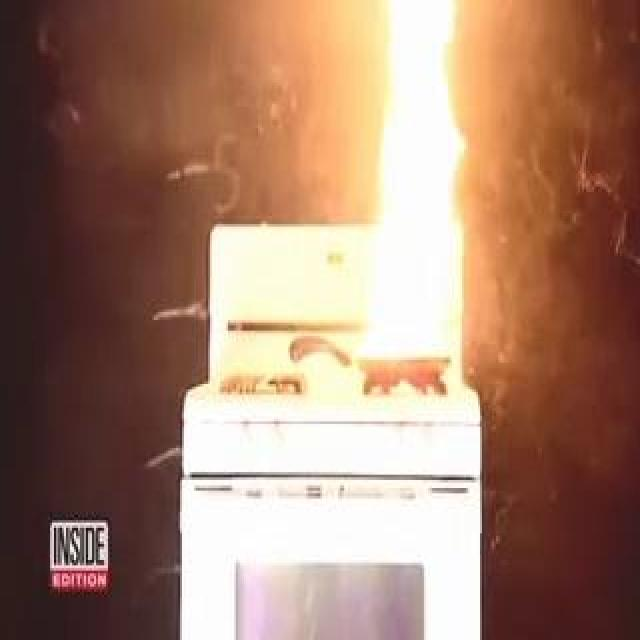Fire: (354, 222, 446, 429)
